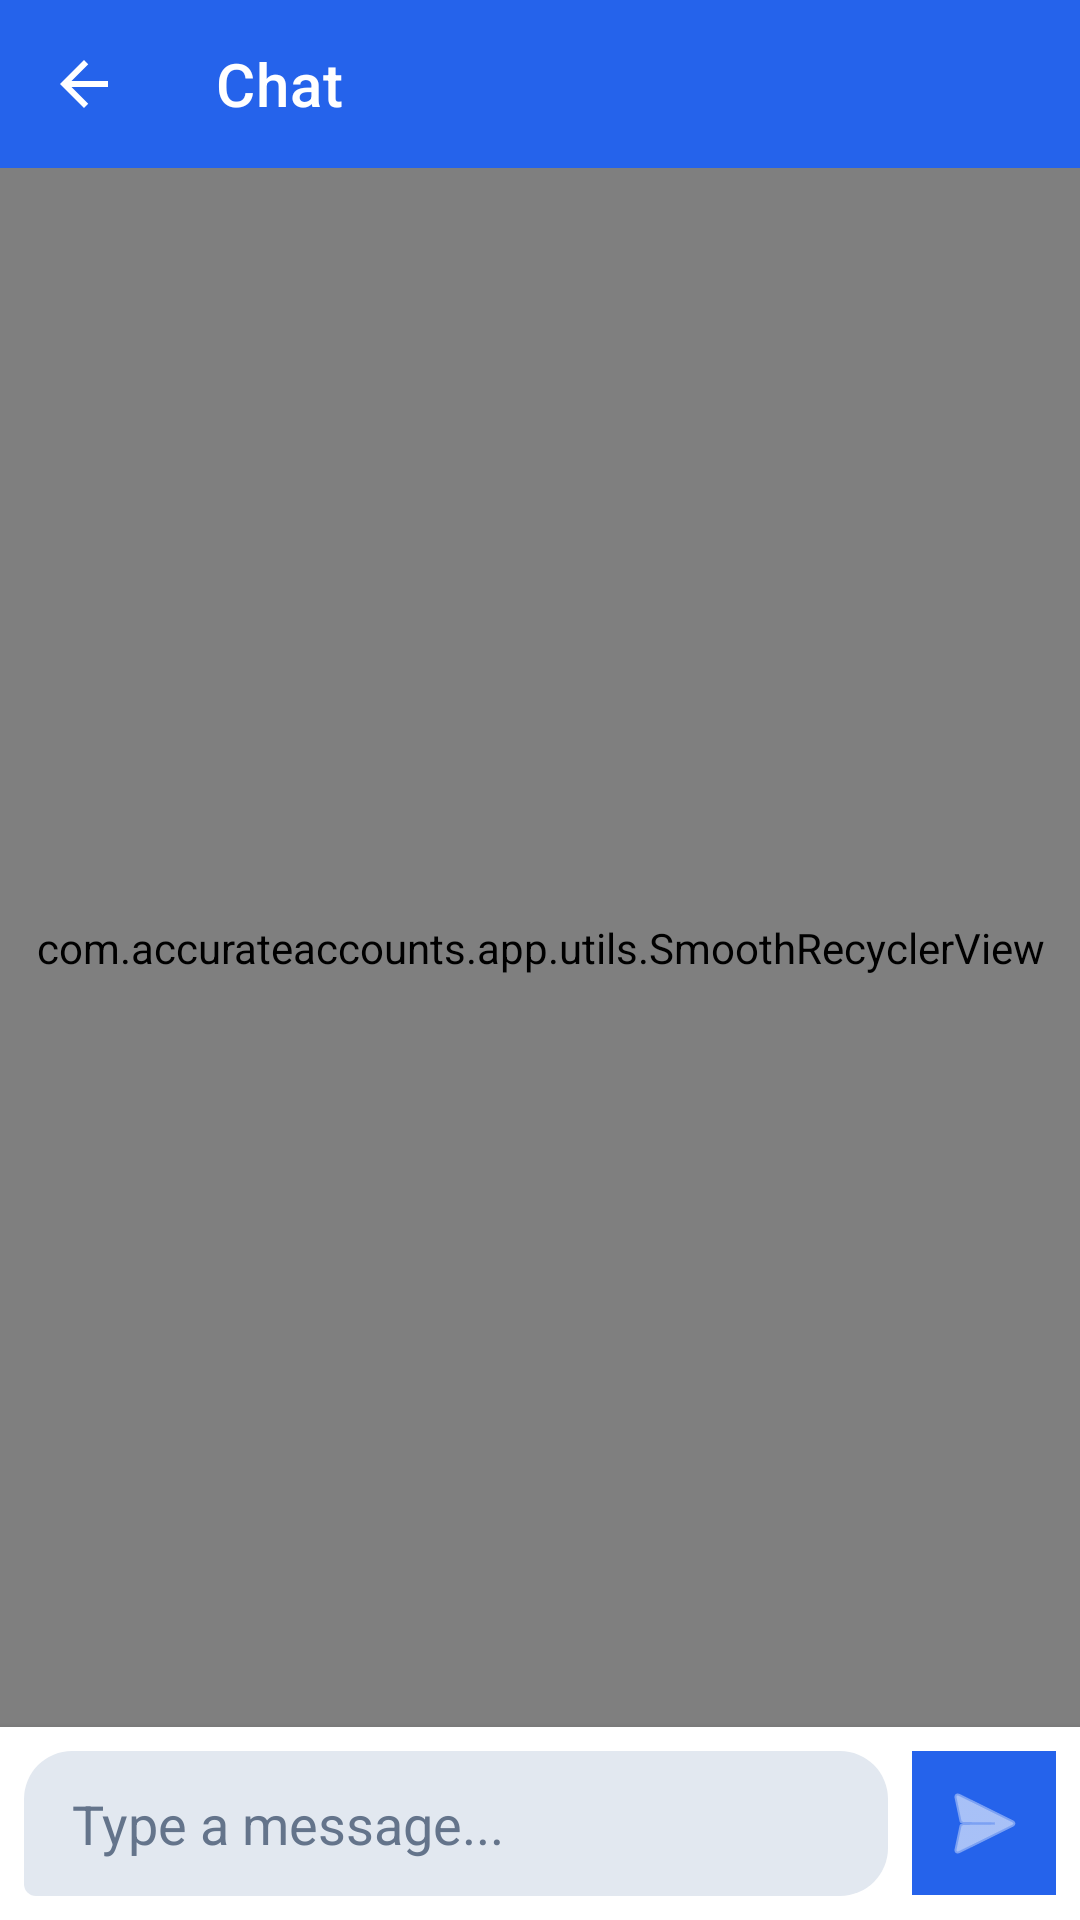

Where to tap for icons on this 1080*1920 app screen, as (x,y):
Send: (984,1823)
